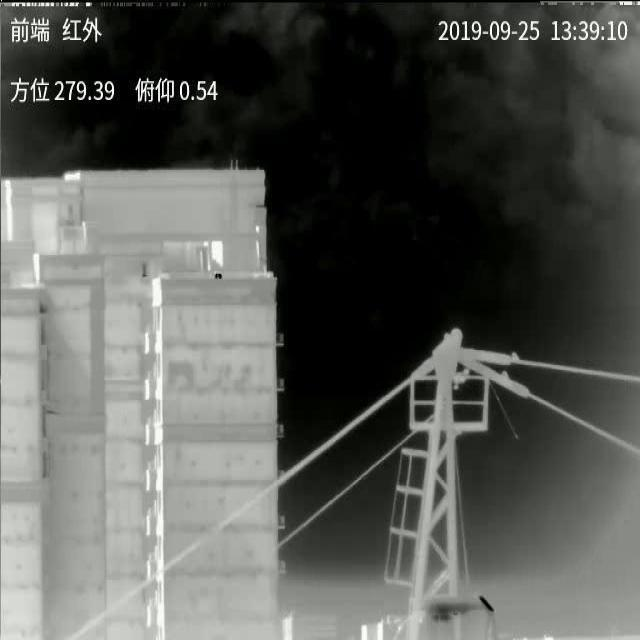drone: (450, 368, 470, 390)
